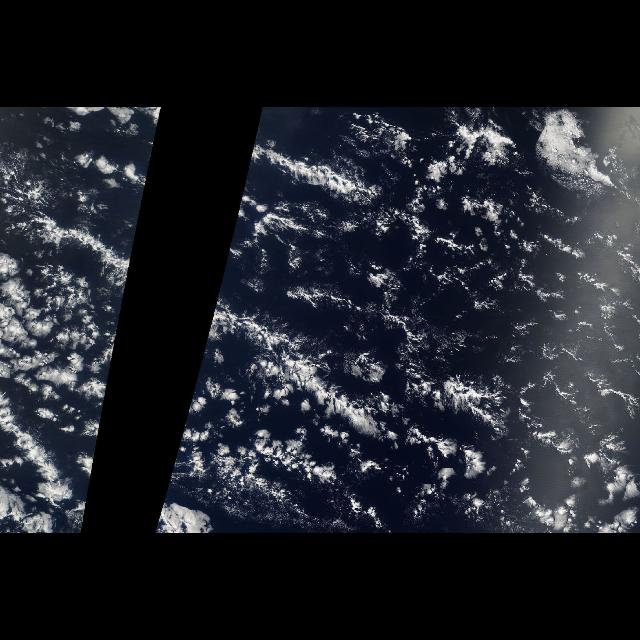Fish: (188, 209, 544, 533), (29, 209, 141, 337)
Flower: (349, 261, 639, 534)
